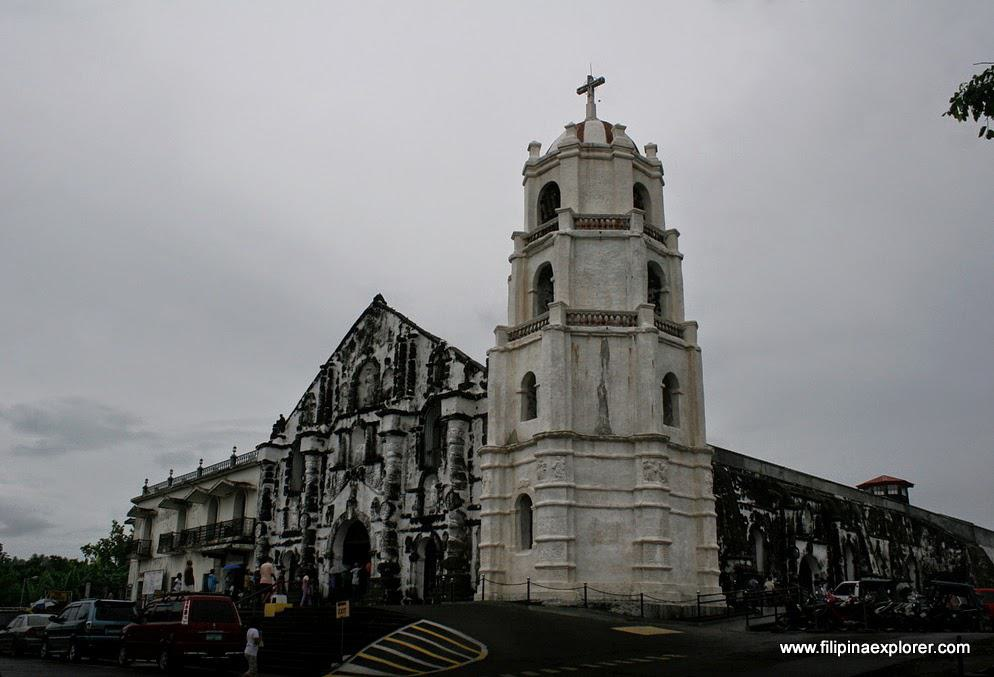daraga_church_daraga_albay: (250, 56, 726, 619)
